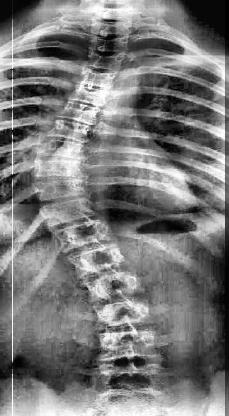Vertebrae: (55, 218, 115, 258), (94, 328, 164, 362), (70, 242, 128, 278), (100, 367, 164, 394), (42, 198, 102, 226), (87, 272, 144, 300), (92, 300, 152, 326), (48, 116, 94, 146), (31, 156, 84, 182), (33, 177, 92, 199), (59, 98, 99, 124), (42, 139, 83, 161)
